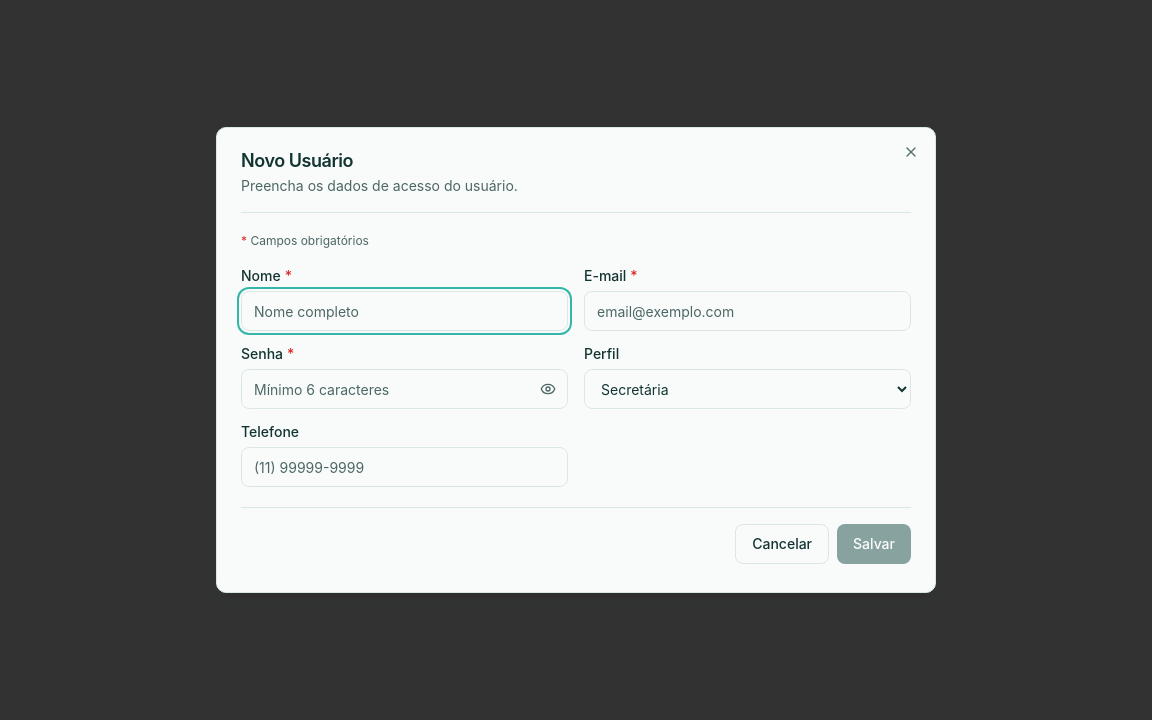
it: UsuarioModal › campos Registro Profissional e Especialidade › deve exibir Registro Profissional e Especialidade quando perfil é MÉDICO
This screenshot has width=1152, height=720.
Select "Médico" in the dropdown labelled "Perfil" at (748, 389), box [584,369,911,409]
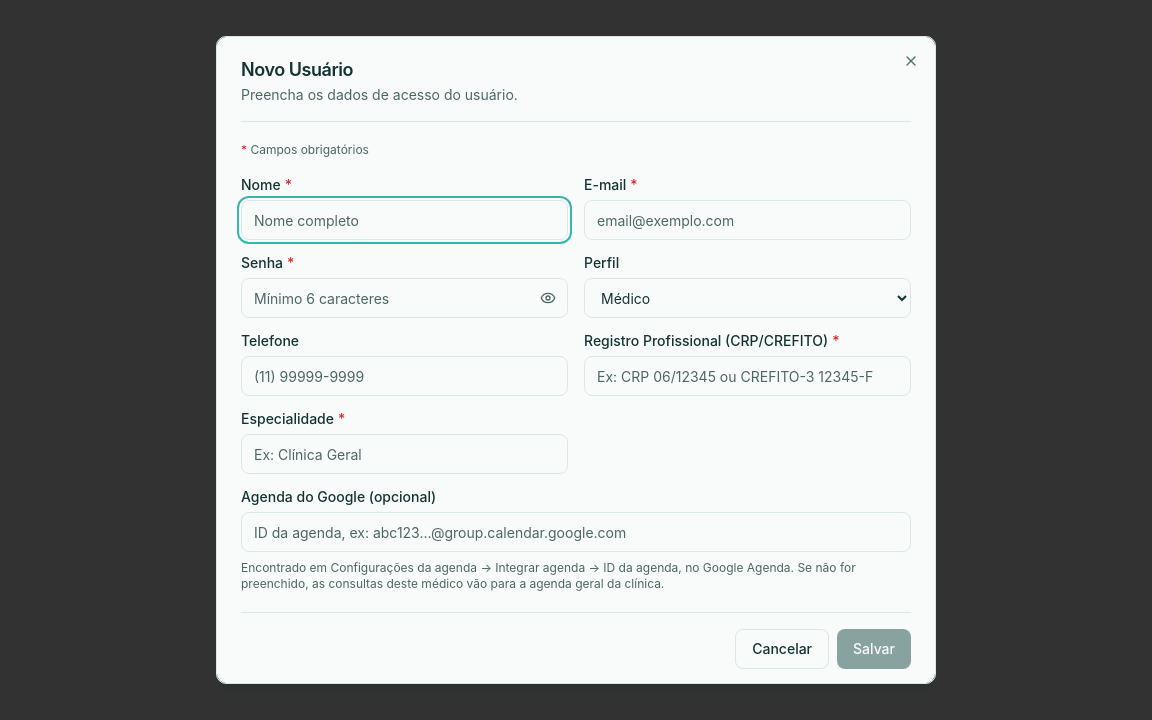
Result: the field labelled "Registro Profissional (CRP/CREFITO)" is shown at [584,356,911,396]
Result: the field labelled "Especialidade" is shown at [241,434,568,474]
